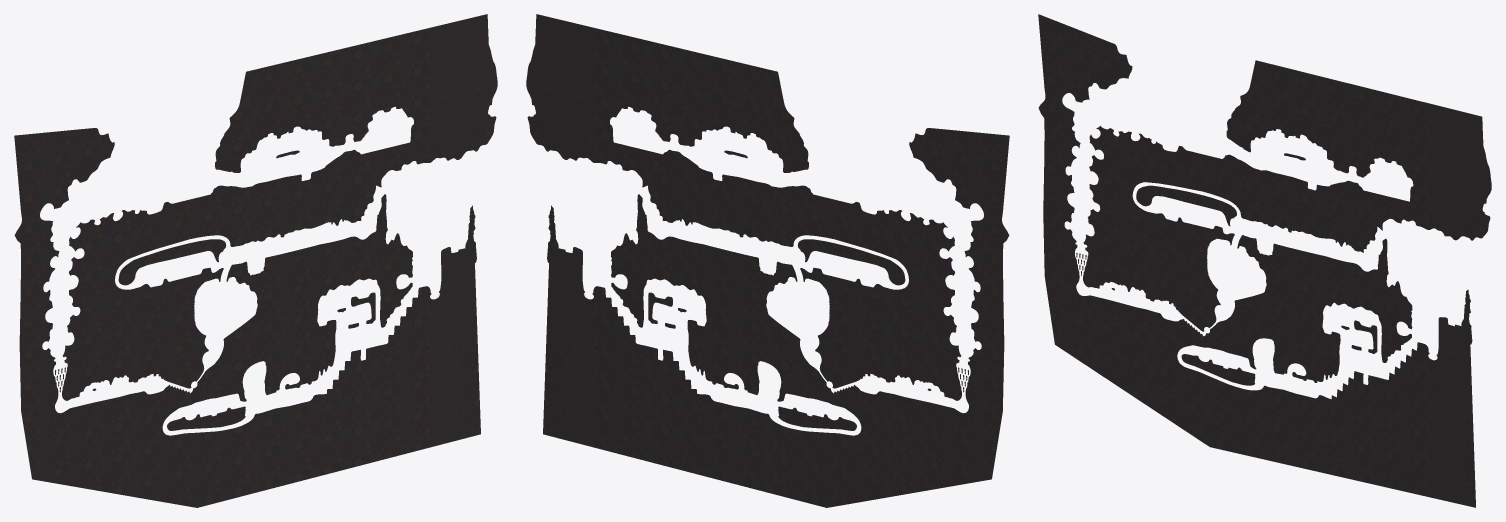
The model's file is nightmare04.glb.
The picture shows the model from 3 angles, left to right: view 1: azimuth 30°, elevation 25°; view 2: azimuth 150°, elevation 25°; view 3: azimuth 330°, elevation 25°; orthographic projection. The views are drawn at different scales.
Parts seen in each view (by area): view 1: nightmare04; view 2: nightmare04; view 3: nightmare04.
Part boxes in pixels (x1,y1,x2,y2): nightmare04: [14, 14, 497, 507]; nightmare04: [526, 14, 1009, 507]; nightmare04: [1038, 14, 1491, 507].
Size of the model in its own units: 3226 by 2706 by 0.
Materials: 1 (1 with a texture image).
